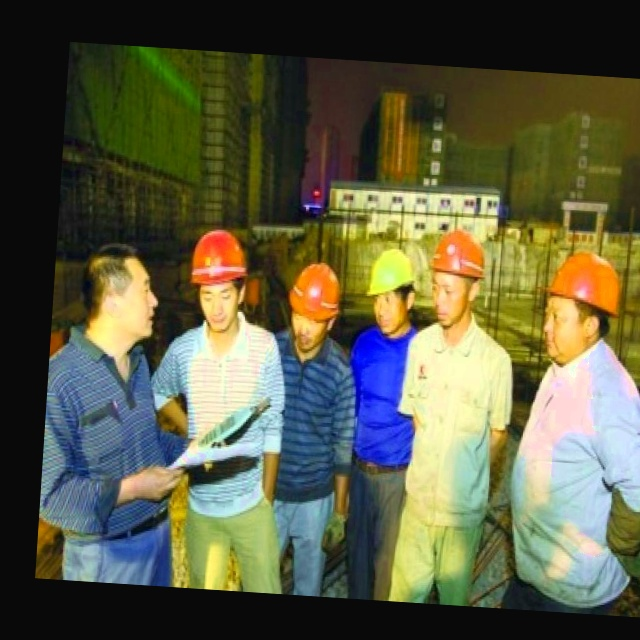Con_Casco: (188, 228, 247, 329), (287, 259, 341, 354)
Con_Chaleco: (505, 362, 640, 604), (397, 335, 514, 519)
Sin_Casco_Mascarrilla: (84, 245, 157, 349)
